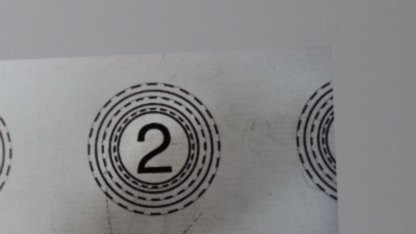2r: (81, 76, 224, 221)
